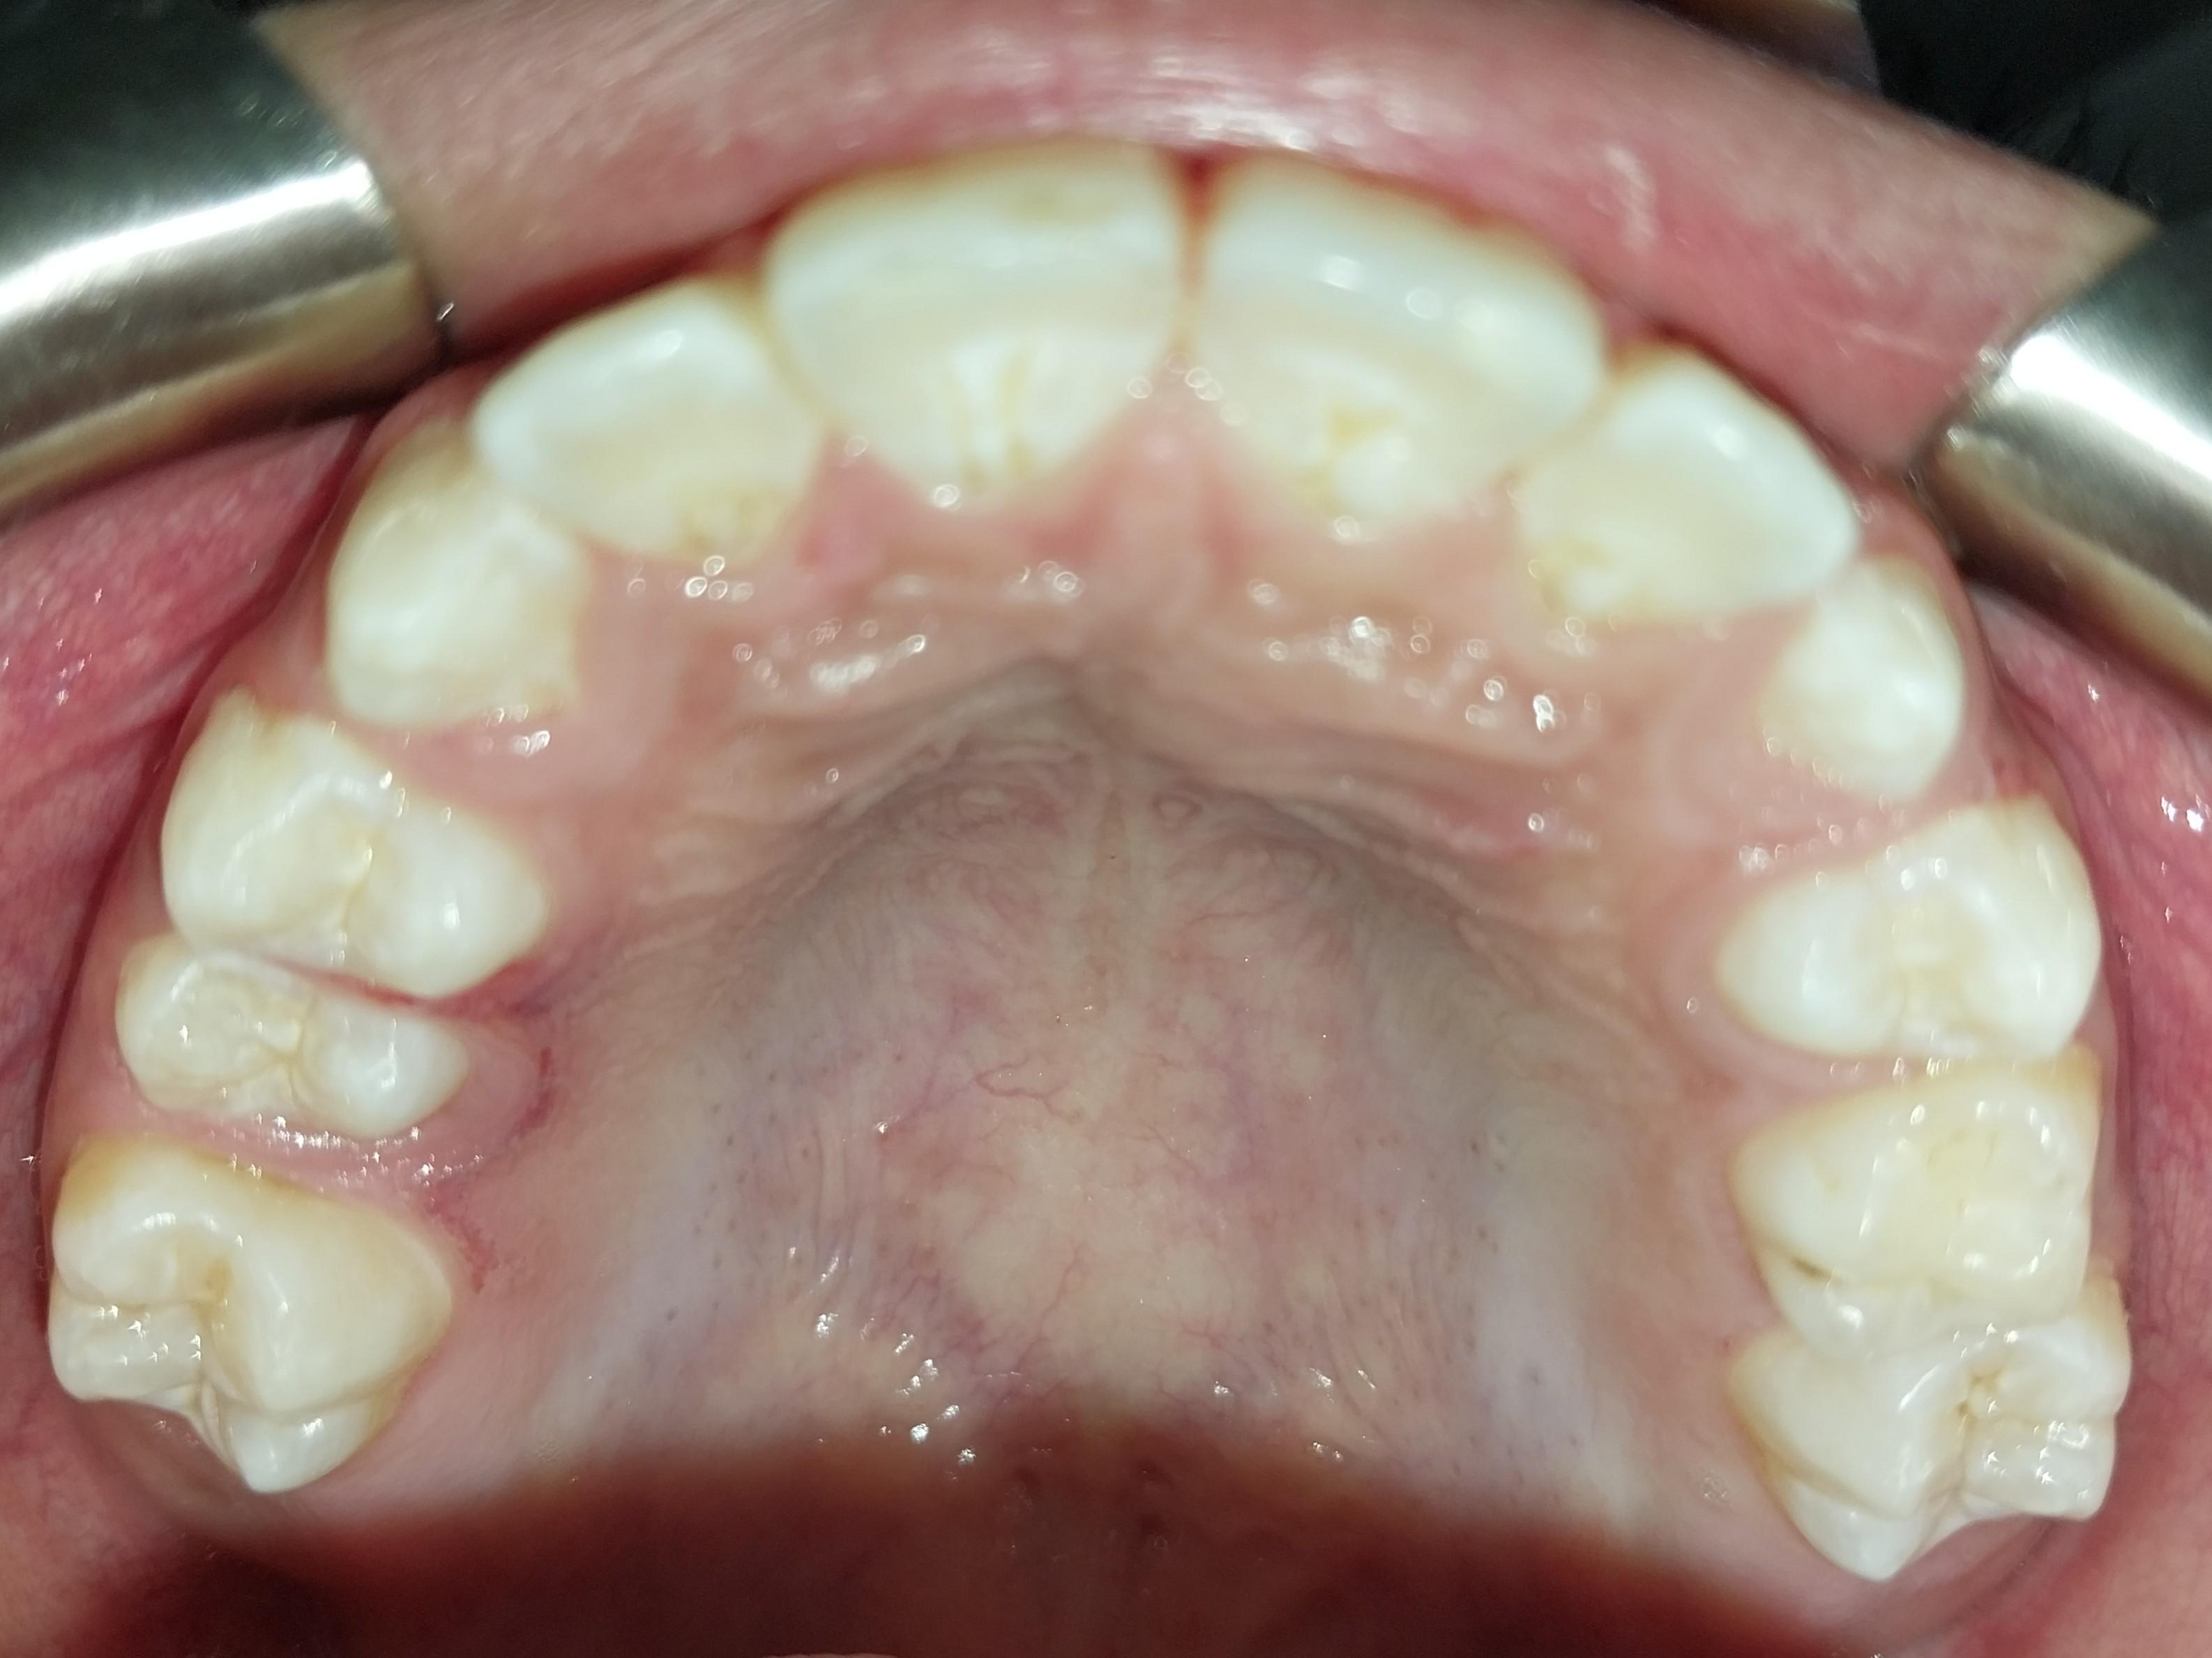d: (1727, 1067, 2108, 1375)
